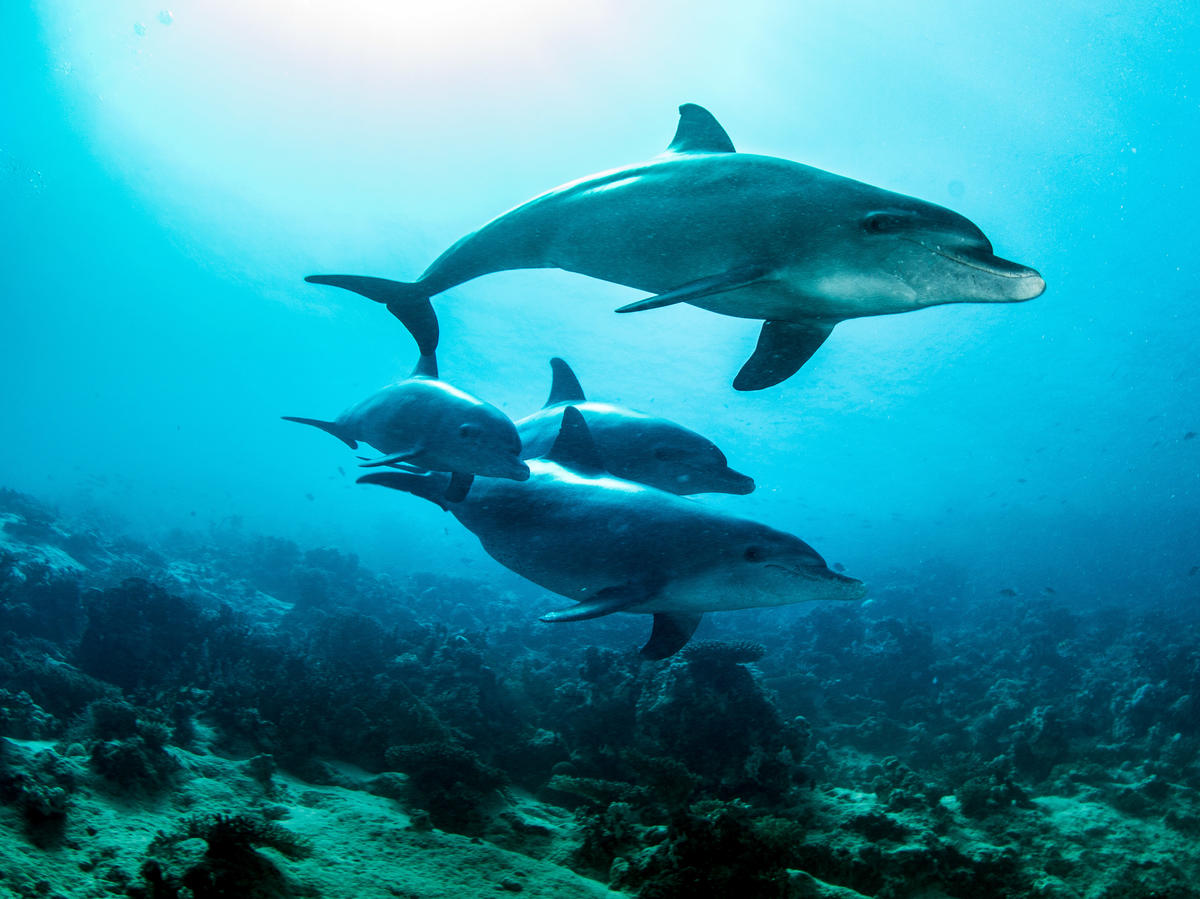dolphin: (274, 101, 1079, 431), (375, 443, 911, 666), (494, 360, 801, 509), (244, 355, 542, 500)
